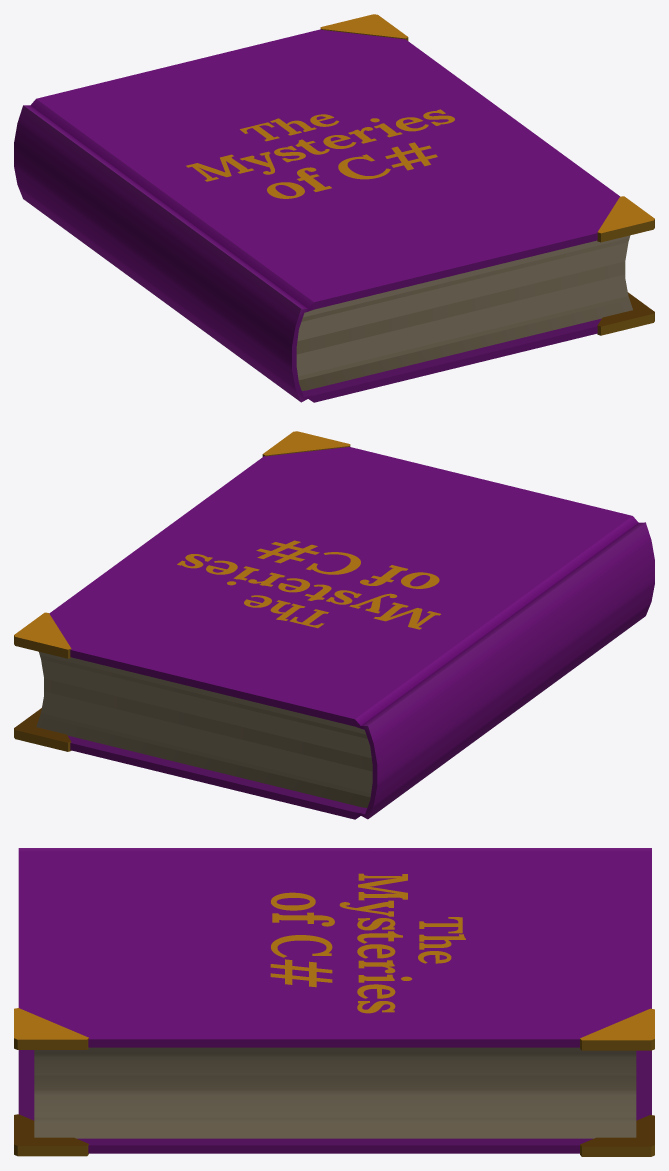
The model's file is book1.fbx.
The picture shows the model from 3 angles, top to bottom: view 1: azimuth 30°, elevation 25°; view 2: azimuth 150°, elevation 25°; view 3: azimuth 270°, elevation 25°; orthographic projection. The views are drawn at different scales.
Parts seen in each view (by area): view 1: book1; view 2: book1; view 3: book1.
Part boxes in pixels (box(x1,y1,x2,y2)): book1: box(14, 14, 654, 402); book1: box(14, 431, 654, 819); book1: box(14, 848, 654, 1156).
Size of the model in its own units: 0.4109 by 0.1106 by 0.5506.
